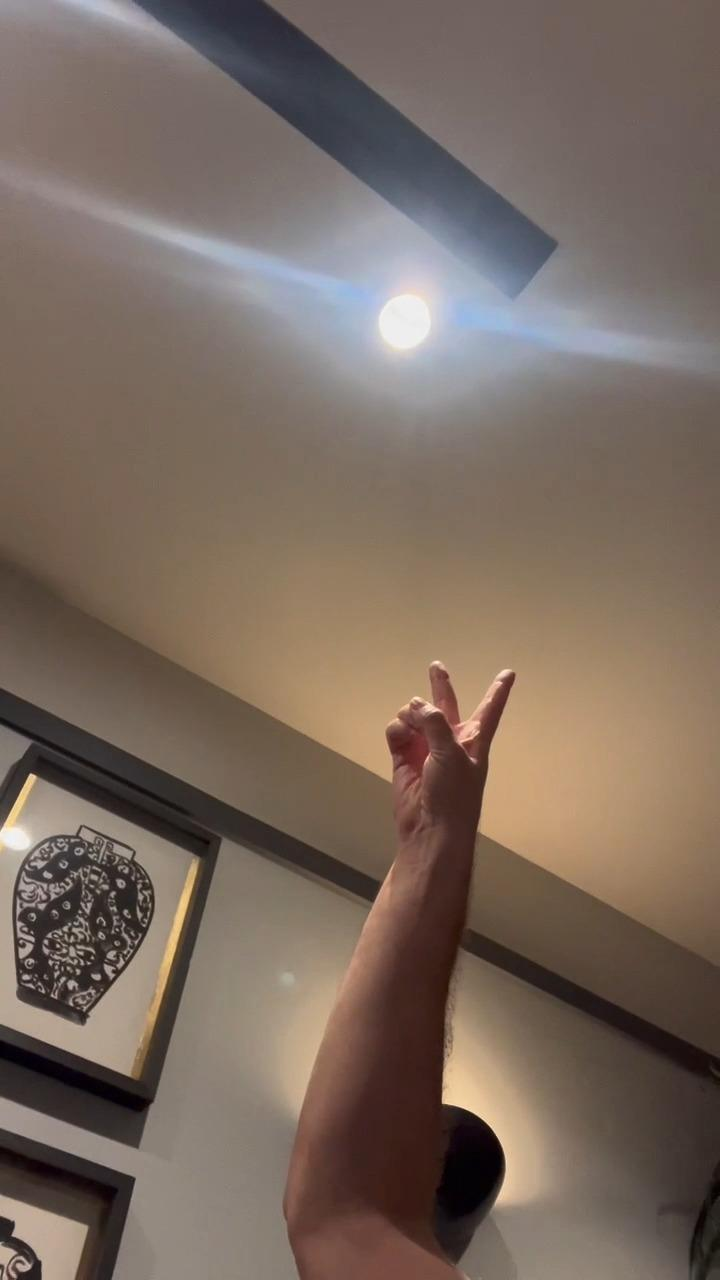Scissors: (382, 654, 517, 820)
